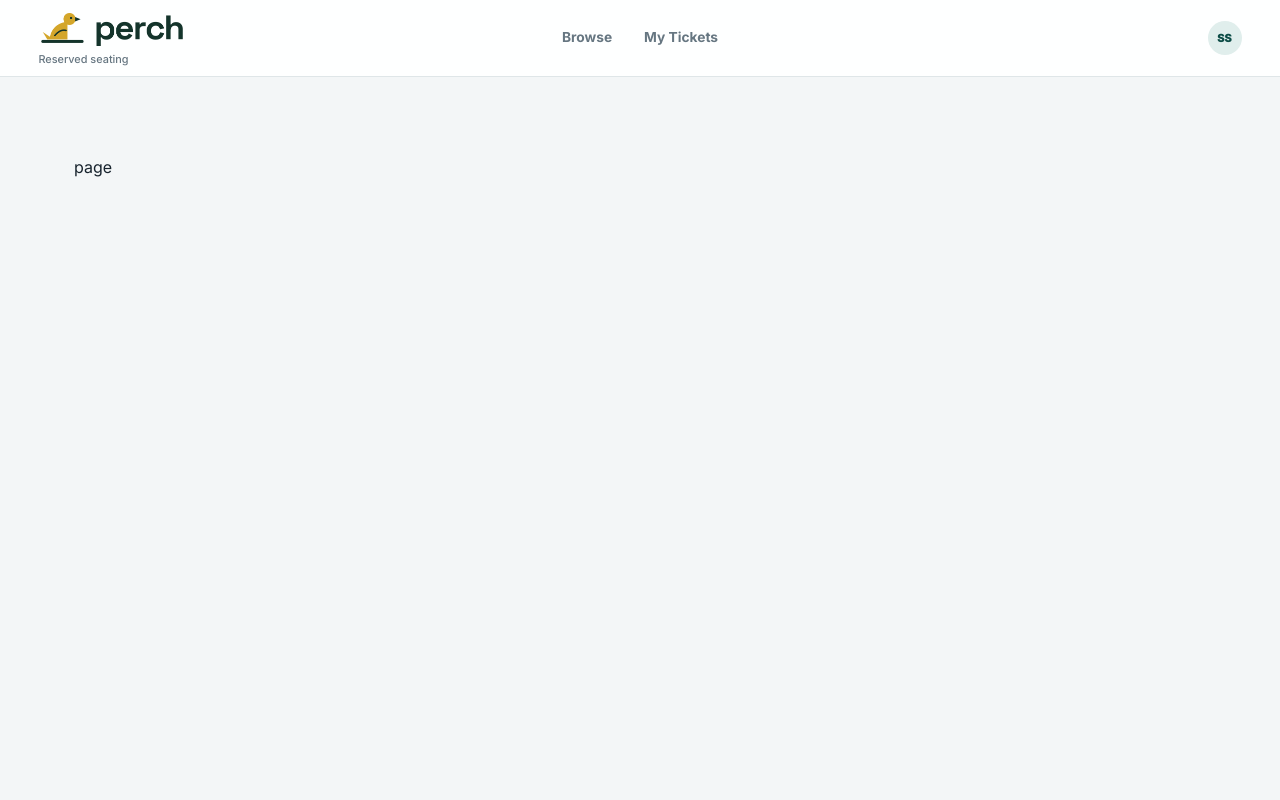
student verification (US 12) › without a university email the customer is told they cannot apply
What coordinates should you click on to do the following:
click the button with aria-label "Account menu"
I would click on:
 (1225, 38)
Its box is [1208, 21, 1242, 55].
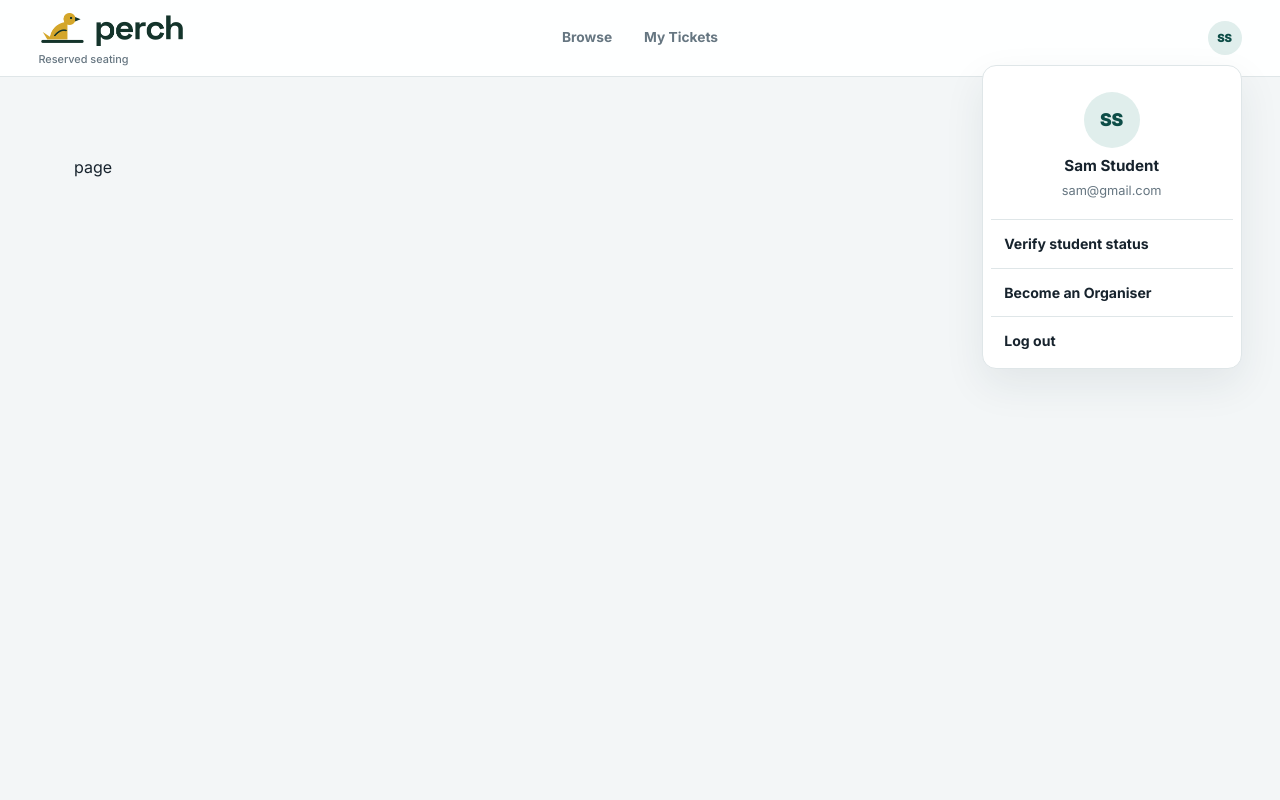
What coordinates should you click on to do the following:
click the button "Verify student status"
I would click on:
 (1112, 244)
Its box is [991, 224, 1233, 264].
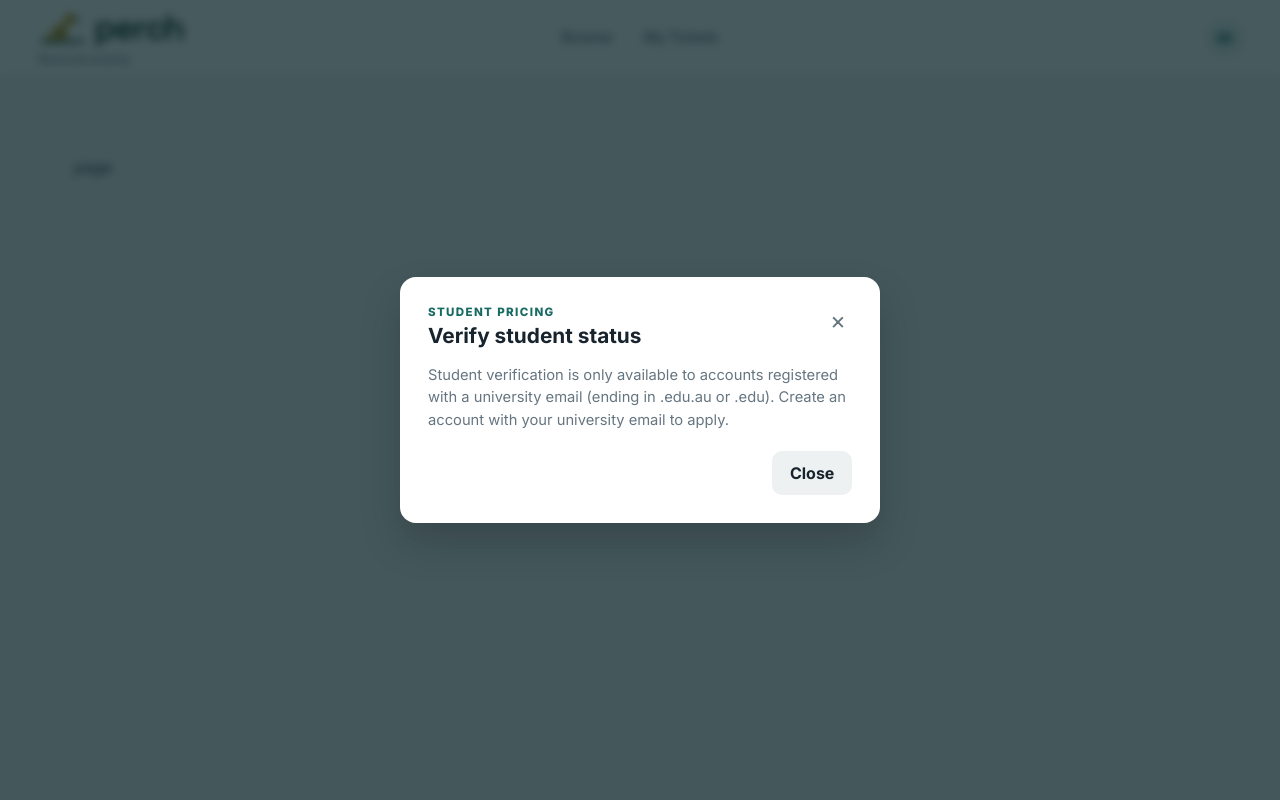
Expected: the text "only available to accounts registered with a university email" is shown, [428, 366, 846, 429]
